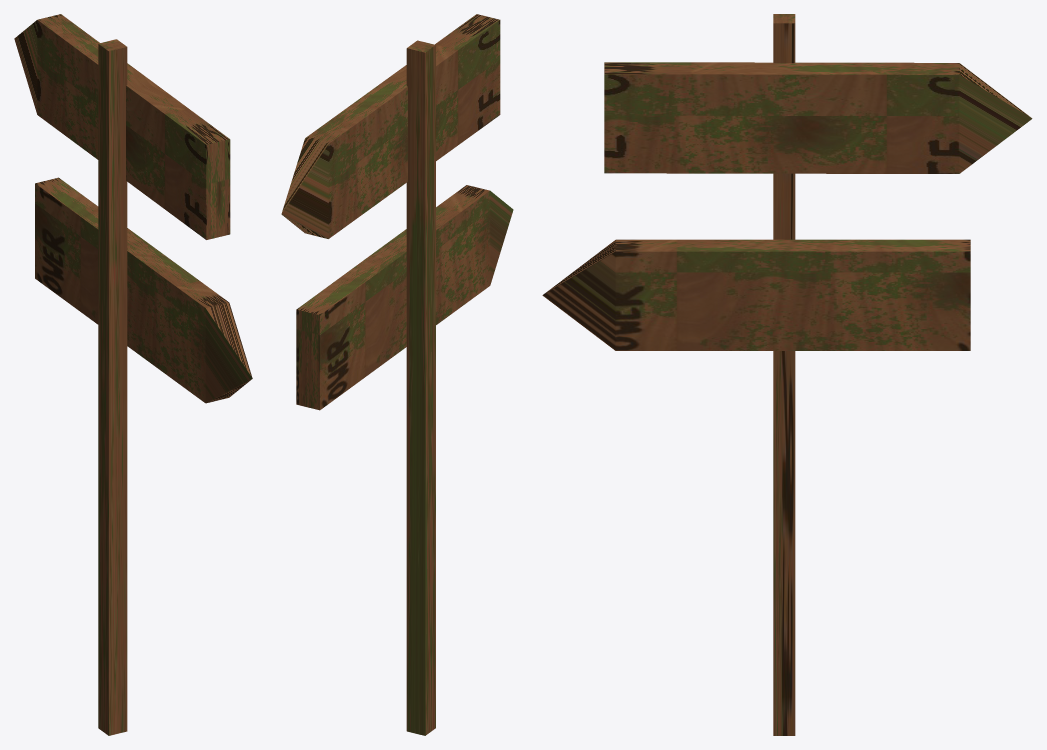
File: Sign.obj
3 renders of one model, left to right at view 1: azimuth 30°, elevation 25°; view 2: azimuth 150°, elevation 25°; view 3: azimuth 270°, elevation 25°, orthographic. The views are drawn at different scales.
Parts seen in each view (by area): view 1: Cube, Cube.001, Cube.002; view 2: Cube, Cube.001, Cube.002; view 3: Cube.002, Cube.001, Cube.
Boxes of the visible parts, box(x1,y1,x2,y2) form: Cube: box(98, 39, 127, 735); Cube.001: box(14, 14, 230, 239); Cube.002: box(35, 177, 252, 403); Cube: box(406, 40, 435, 735); Cube.001: box(281, 14, 500, 238); Cube.002: box(296, 185, 513, 410); Cube.002: box(542, 239, 970, 350); Cube.001: box(604, 62, 1032, 173); Cube: box(773, 14, 795, 735).
Size of the model in its own units: 0.2449 by 3.57 by 2.23.
Materials: 3 (3 with a texture image).
